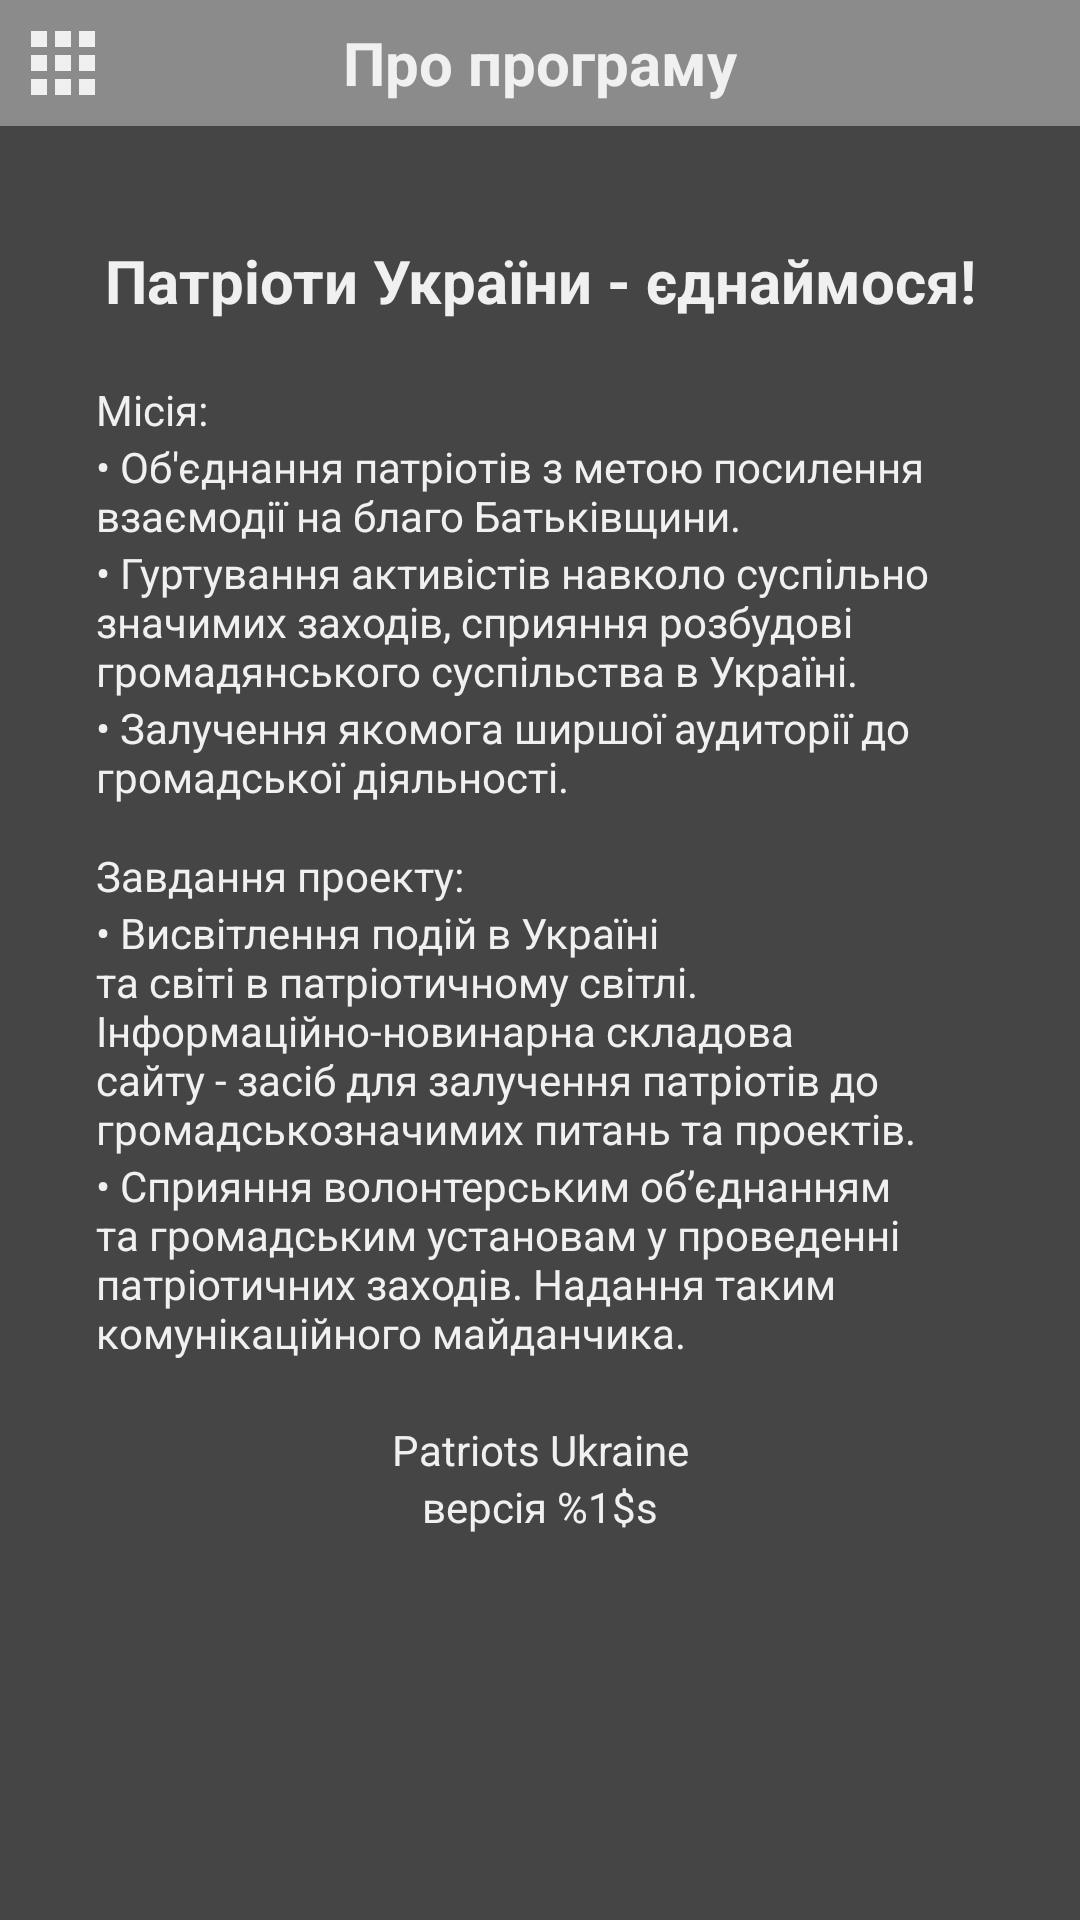

Named icons in this screenshot (1080*1920) and their centers, (x=x, y=y):
menu: (x=63, y=63)
